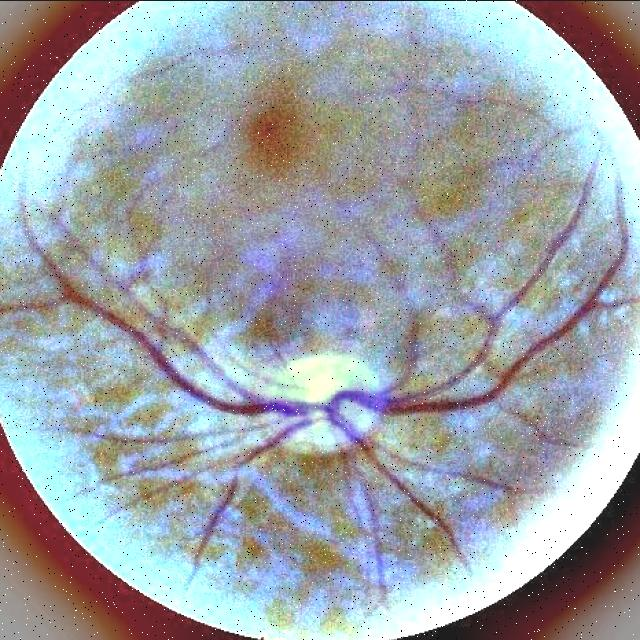Macula: (240, 95, 313, 170)
Nerves: (27, 173, 629, 593), (196, 479, 239, 567)
Optic Disk: (260, 349, 380, 461)
